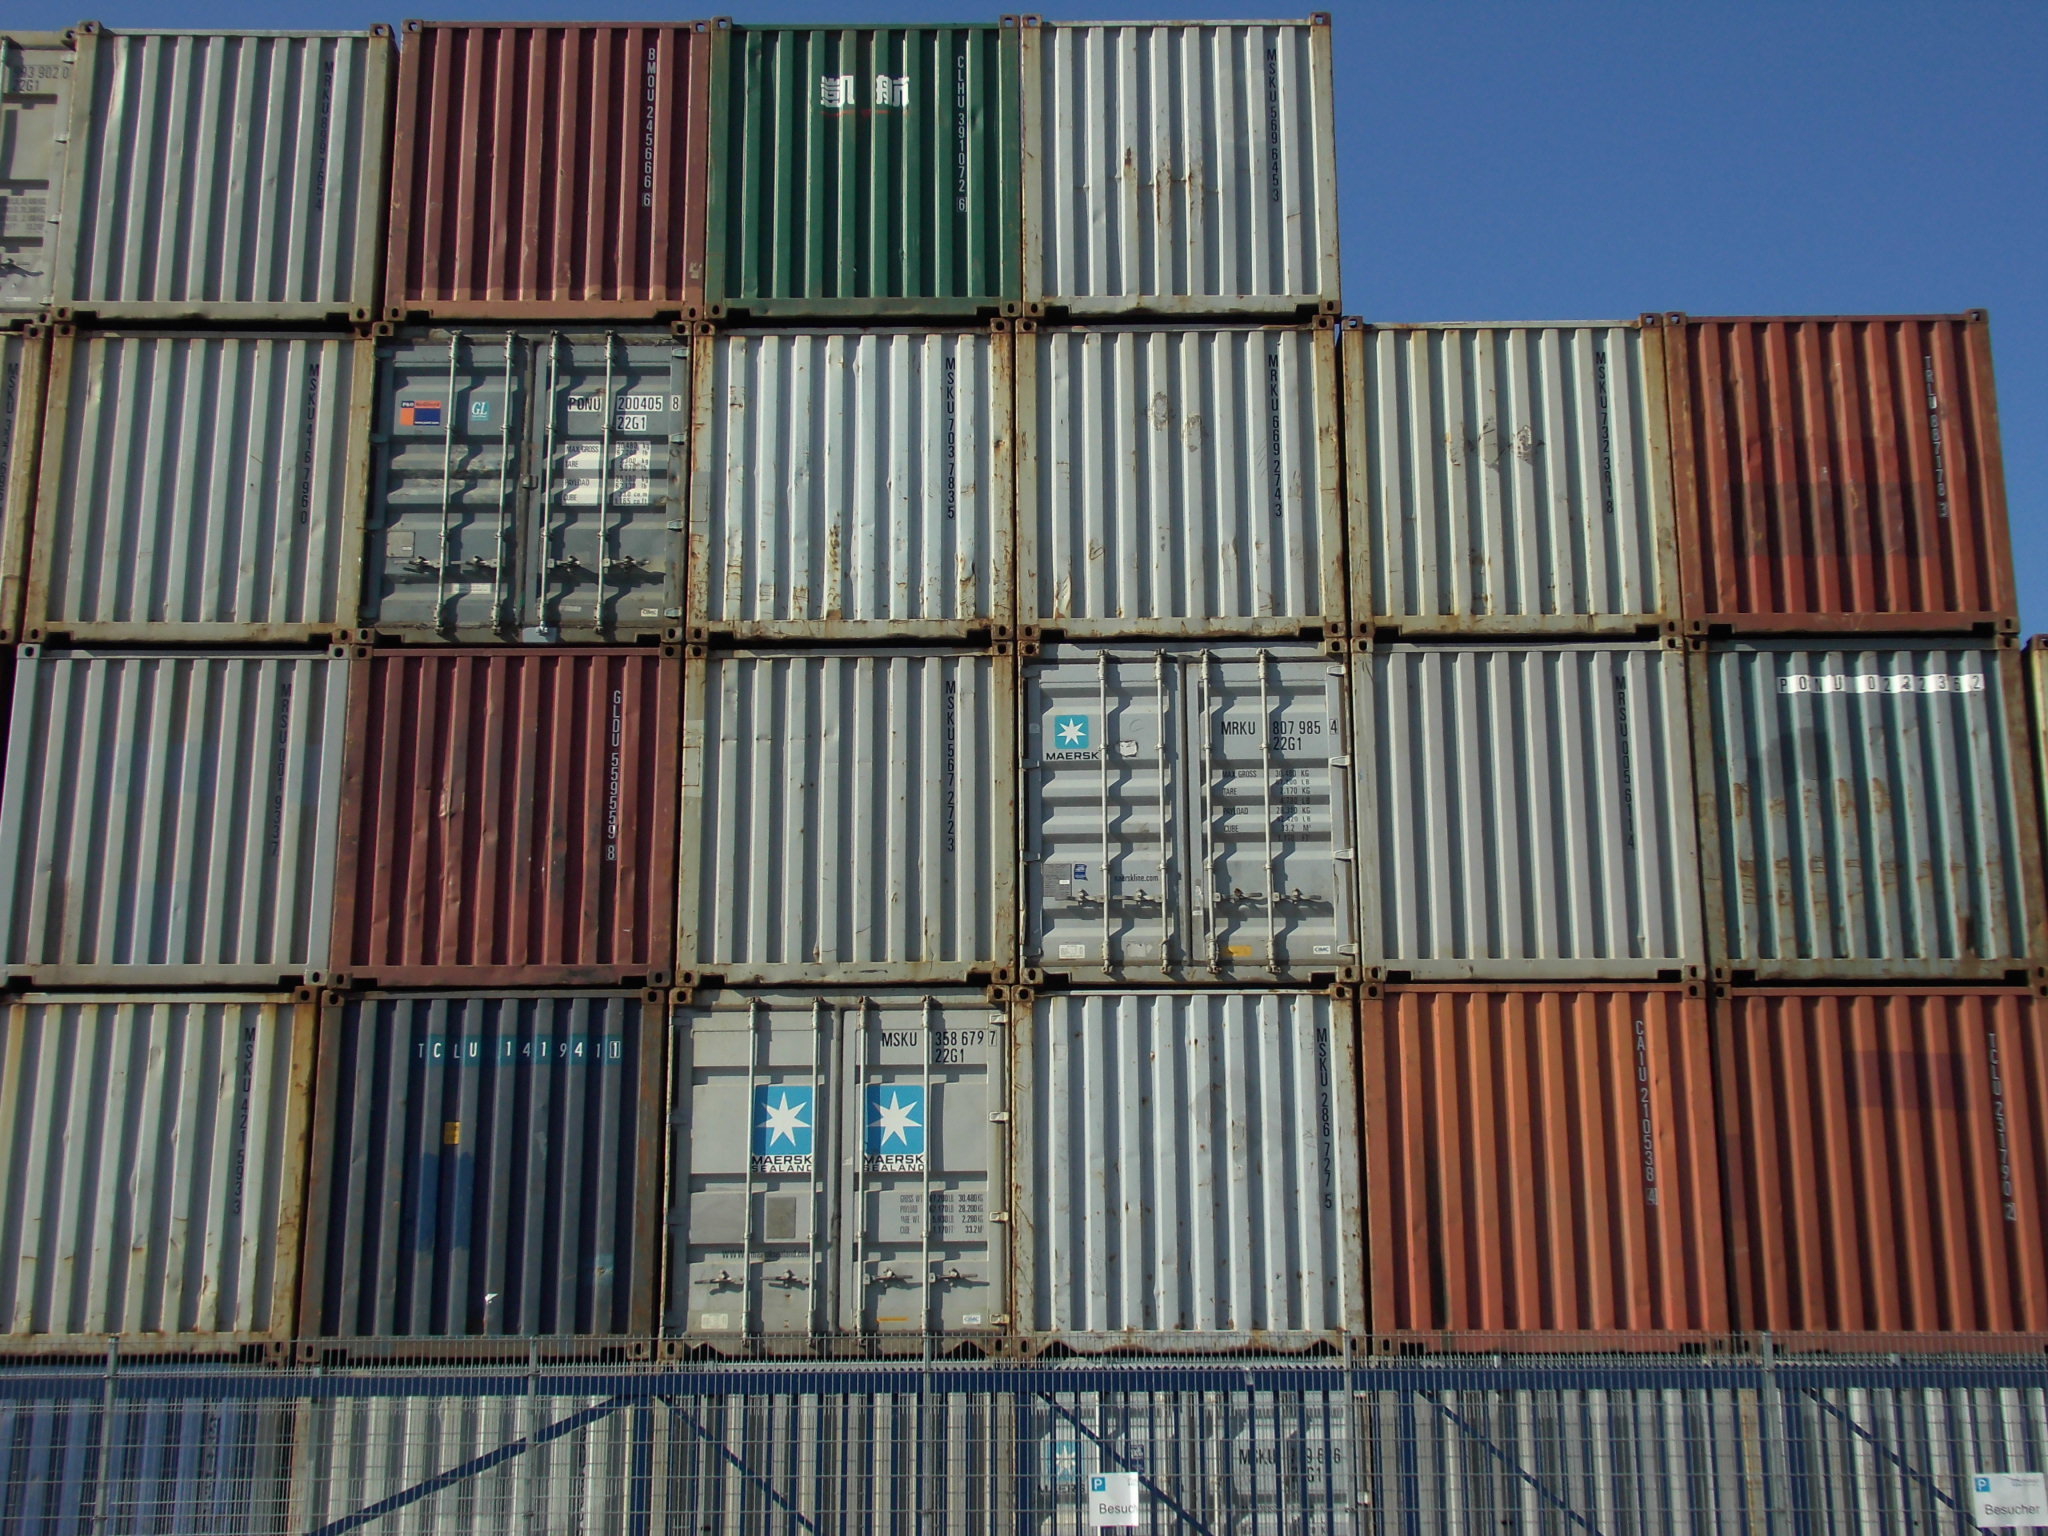container_door: (685, 1005, 1030, 1338), (1030, 653, 1361, 949), (384, 342, 668, 634)
container_no_door: (1725, 992, 2045, 1342), (1387, 994, 1705, 1346), (1048, 992, 1321, 1323), (347, 1008, 618, 1341), (11, 1007, 282, 1338), (1400, 658, 1682, 949), (90, 19, 373, 308), (1032, 13, 1314, 302), (32, 665, 314, 954), (701, 662, 984, 950), (1735, 649, 2017, 937), (708, 331, 990, 620), (1047, 336, 1329, 624), (1374, 337, 1656, 626), (397, 24, 677, 315), (713, 19, 993, 308), (65, 334, 345, 623), (360, 666, 640, 955), (1706, 319, 1987, 608)
